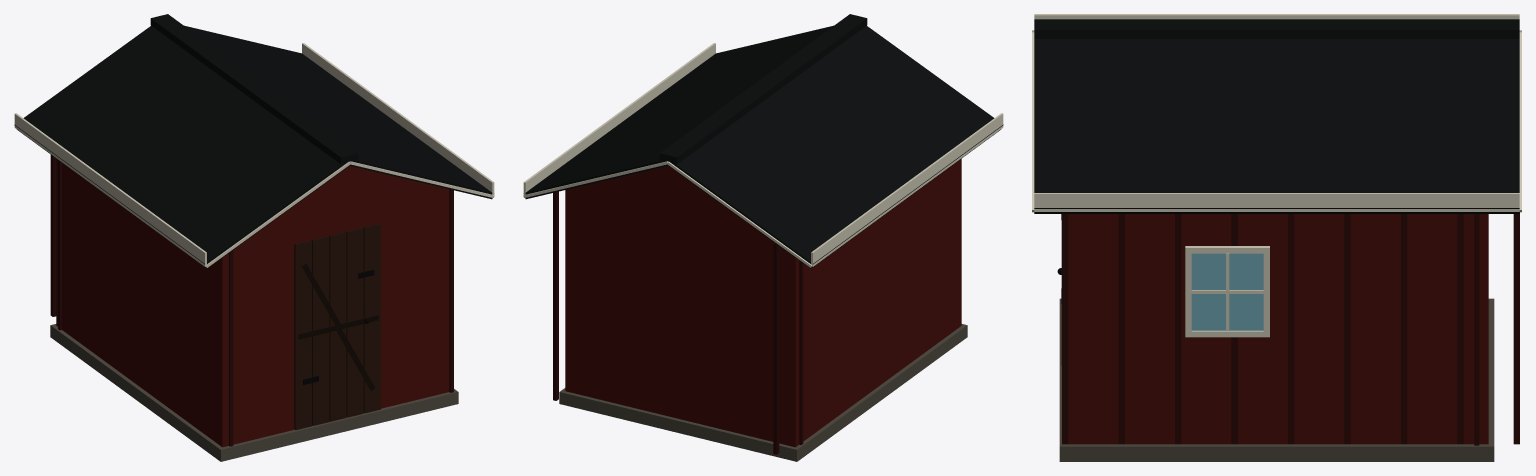
File: BackyardShed.obj
The picture shows the model from 3 angles, left to right: view 1: azimuth 30°, elevation 25°; view 2: azimuth 150°, elevation 25°; view 3: azimuth 270°, elevation 25°; orthographic projection. The views are drawn at different scales.
Visible parts, largest first — view 1: BackyardShed; view 2: BackyardShed; view 3: BackyardShed.
Part boxes in pixels (left/top/right/bottom): BackyardShed: left=14, top=14, right=494, bottom=461; BackyardShed: left=523, top=14, right=1003, bottom=461; BackyardShed: left=1032, top=14, right=1521, bottom=461.
Bounding box in the file's own units: 3.03 × 2.84 × 3.47.
